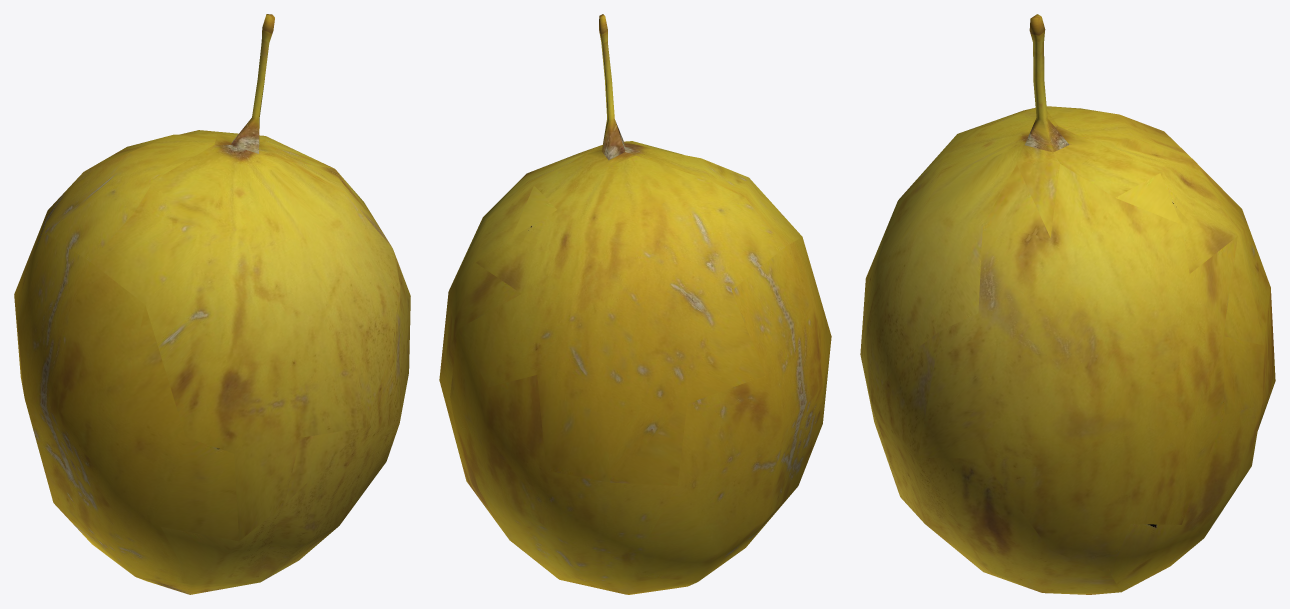
3 renders of one model, left to right at view 1: azimuth 30°, elevation 25°; view 2: azimuth 150°, elevation 25°; view 3: azimuth 270°, elevation 25°, orthographic. The views are drawn at different scales.
Parts seen in each view (by area): view 1: 34_yellow_sugar_melon; view 2: 34_yellow_sugar_melon; view 3: 34_yellow_sugar_melon.
Boxes of the visible parts, x1,y1,x2,y2 form: 34_yellow_sugar_melon: (14, 14, 410, 594); 34_yellow_sugar_melon: (439, 14, 831, 594); 34_yellow_sugar_melon: (860, 14, 1275, 594).
Size of the model in its own units: 88.42 by 137 by 87.14.
